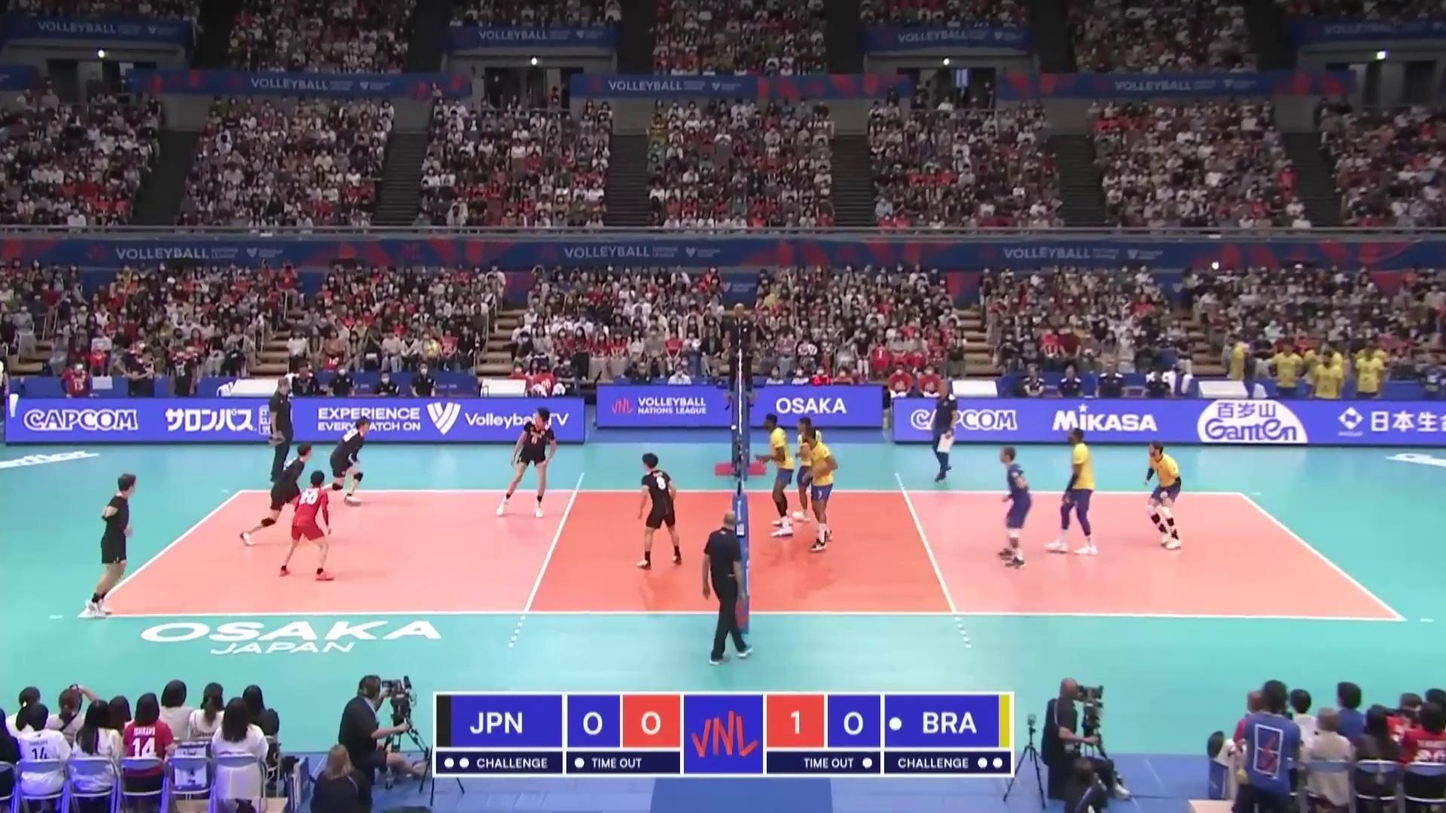player: (242, 445, 315, 549), (495, 407, 557, 519), (88, 475, 136, 617), (1049, 427, 1098, 557), (279, 471, 333, 579), (636, 452, 684, 569), (310, 418, 370, 508), (1141, 442, 1184, 552), (798, 430, 837, 549), (763, 411, 798, 539), (997, 448, 1031, 566), (793, 413, 821, 528)
refree: (702, 511, 754, 663), (725, 303, 755, 409)
